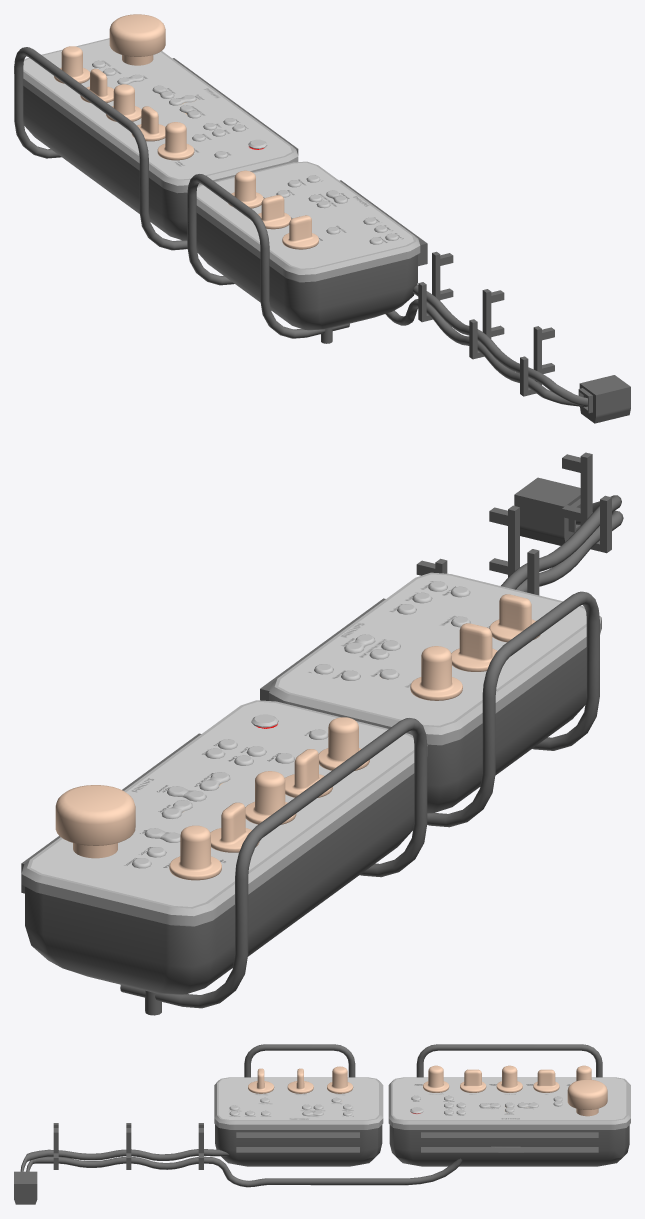
The model's file is ControlsV2.fbx.
3 renders of one model, top to bottom at view 1: azimuth 30°, elevation 25°; view 2: azimuth 150°, elevation 25°; view 3: azimuth 270°, elevation 25°, orthographic. The views are drawn at different scales.
Visible parts, largest first — view 1: ControlShell, ControlPanel, knob, AluminumFrame, AluminumFrame_1, tubing, buttons, frameConnection; view 2: ControlShell, ControlPanel, knob, AluminumFrame, AluminumFrame_1, buttons, tubing, frameConnection; view 3: ControlShell, ControlPanel, tubing, knob, frameConnection, AluminumFrame, AluminumFrame_1, buttons.
Boxes of the visible parts, x1=… form: ControlShell: x1=14, y1=38, x2=420, y2=330; ControlPanel: x1=23, y1=39, x2=413, y2=268; knob: x1=54, y1=14, x2=318, y2=249; AluminumFrame: x1=14, y1=47, x2=349, y2=343; AluminumFrame_1: x1=418, y1=251, x2=630, y2=423; tubing: x1=385, y1=284, x2=587, y2=407; buttons: x1=92, y1=60, x2=398, y2=244; frameConnection: x1=172, y1=58, x2=427, y2=266; ControlShell: x1=21, y1=572, x2=601, y2=994; ControlPanel: x1=30, y1=574, x2=586, y2=906; knob: x1=55, y1=594, x2=540, y2=880; AluminumFrame: x1=120, y1=591, x2=599, y2=1015; AluminumFrame_1: x1=416, y1=452, x2=611, y2=595; buttons: x1=132, y1=581, x2=470, y2=868; tubing: x1=501, y1=495, x2=623, y2=592; frameConnection: x1=21, y1=598, x2=385, y2=893; ControlShell: x1=214, y1=1077, x2=630, y2=1166; ControlPanel: x1=218, y1=1078, x2=626, y2=1119; tubing: x1=20, y1=1146, x2=523, y2=1187; knob: x1=248, y1=1065, x2=607, y2=1116; frameConnection: x1=236, y1=1132, x2=598, y2=1152; AluminumFrame: x1=244, y1=1044, x2=602, y2=1077; AluminumFrame_1: x1=14, y1=1123, x2=203, y2=1204; buttons: x1=229, y1=1095, x2=465, y2=1116.
Size of the model in its own units: 26.59 by 16.75 by 96.38.
Materials: 5 (1 with a texture image).
